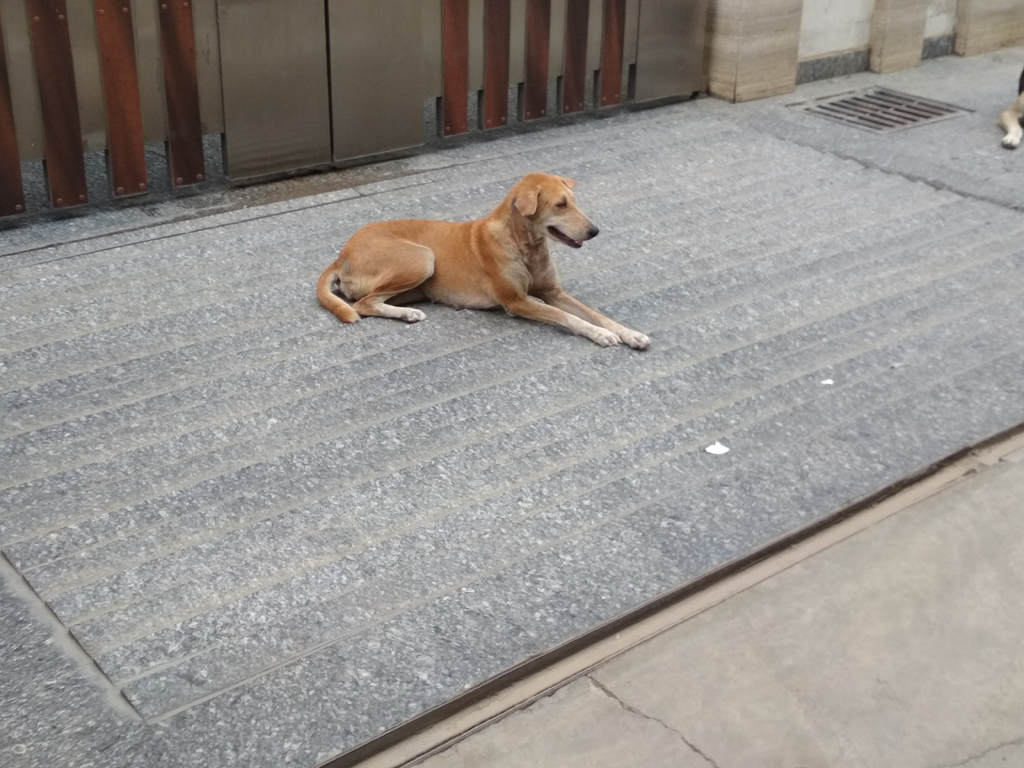dog: (316, 172, 651, 349)
